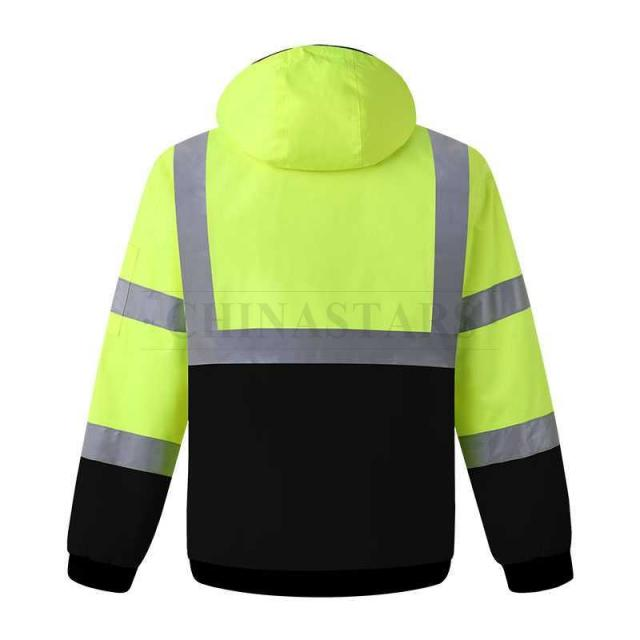Reflective-Jacket: (33, 53, 590, 622)
